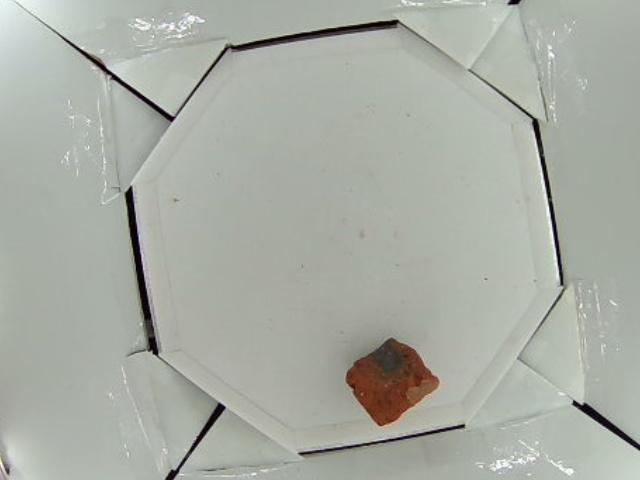Brisk: (344, 336, 441, 427)
